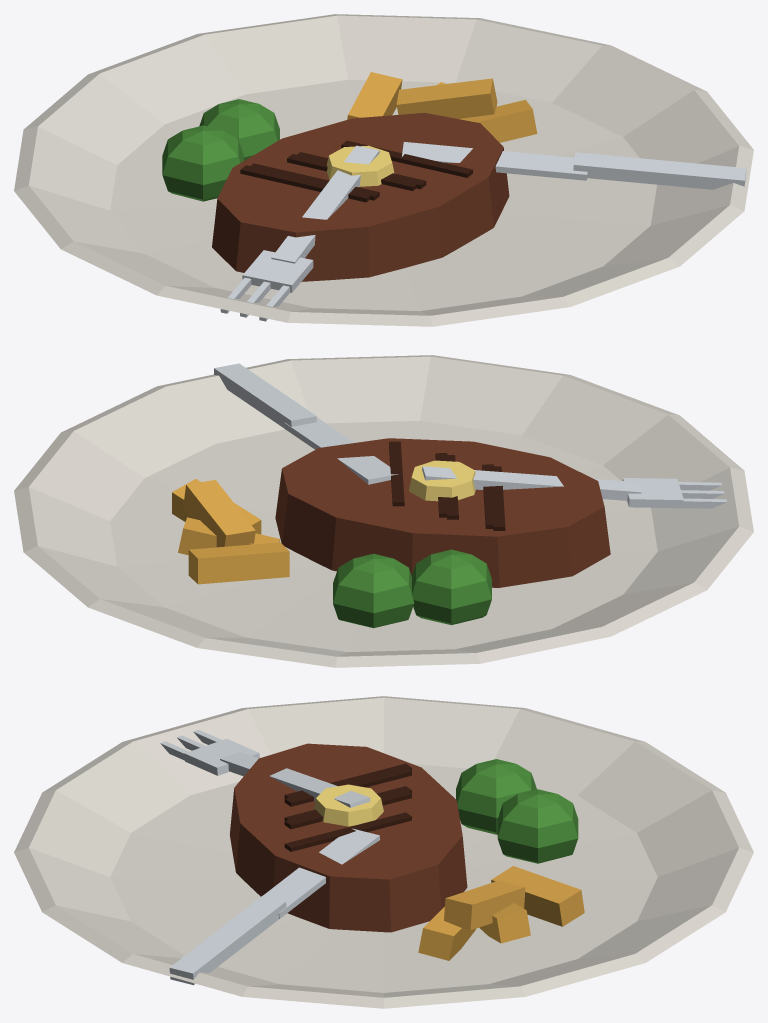
Rendered from steak-lite.glb.
3 renders of one model, top to bottom at view 1: azimuth 30°, elevation 25°; view 2: azimuth 150°, elevation 25°; view 3: azimuth 270°, elevation 25°, orthographic.
Parts seen in each view (by area): view 1: VesselMesh, SteakFullMeat, SteakForkKnife, SteakFullPotato, SteakFullBroccoli, SteakPartialBroccoli, SteakFullSear, SteakFullButter, SteakPartialSear, SteakPartialPotato; view 2: VesselMesh, SteakFullMeat, SteakForkKnife, SteakFullBroccoli, SteakFullPotato, SteakPartialBroccoli, SteakFullButter, SteakFullSear, SteakPartialPotato, SteakPartialSear; view 3: VesselMesh, SteakFullMeat, SteakForkKnife, SteakFullPotato, SteakFullBroccoli, SteakPartialBroccoli, SteakFullSear, SteakPartialPotato, SteakFullButter, SteakPartialSear.
Boxes of the visible parts, bbox=[...] form: VesselMesh: bbox=[14, 14, 753, 326]; SteakFullMeat: bbox=[212, 113, 509, 281]; SteakForkKnife: bbox=[220, 142, 746, 321]; SteakFullPotato: bbox=[347, 72, 530, 136]; SteakFullBroccoli: bbox=[162, 99, 279, 201]; SteakPartialBroccoli: bbox=[162, 125, 243, 200]; SteakFullSear: bbox=[248, 140, 472, 200]; SteakFullButter: bbox=[327, 145, 394, 186]; SteakPartialSear: bbox=[240, 154, 416, 202]; SteakPartialPotato: bbox=[437, 82, 537, 142]; VesselMesh: bbox=[14, 355, 753, 667]; SteakFullMeat: bbox=[275, 438, 610, 587]; SteakForkKnife: bbox=[214, 363, 726, 508]; SteakFullBroccoli: bbox=[333, 549, 491, 628]; SteakFullPotato: bbox=[172, 480, 289, 584]; SteakPartialBroccoli: bbox=[412, 549, 491, 617]; SteakFullButter: bbox=[409, 460, 475, 501]; SteakFullSear: bbox=[389, 441, 497, 528]; SteakPartialPotato: bbox=[172, 479, 279, 555]; SteakPartialSear: bbox=[447, 455, 505, 530]; VesselMesh: bbox=[14, 696, 753, 1008]; SteakFullMeat: bbox=[229, 743, 467, 932]; SteakForkKnife: bbox=[160, 729, 380, 985]; SteakFullPotato: bbox=[421, 866, 584, 960]; SteakFullBroccoli: bbox=[466, 759, 578, 863]; SteakPartialBroccoli: bbox=[456, 759, 536, 834]; SteakFullSear: bbox=[284, 767, 411, 851]; SteakPartialPotato: bbox=[418, 903, 530, 960]; SteakFullButter: bbox=[313, 784, 383, 826]; SteakPartialSear: bbox=[284, 763, 411, 820].
Size of the model in its own units: 0.25 by 0.0345 by 0.25.
